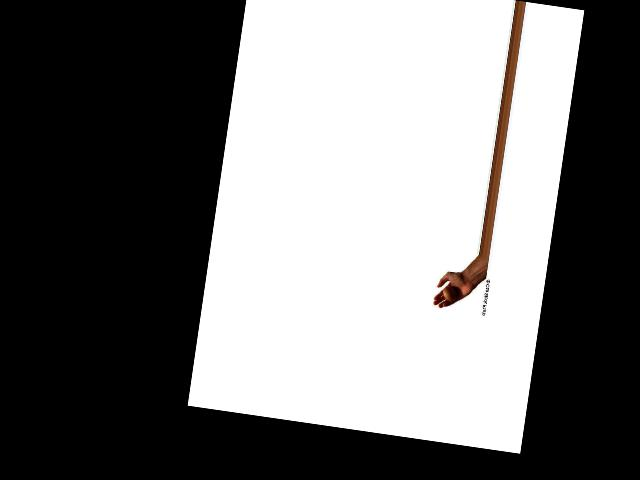egg: (442, 287, 457, 302)
